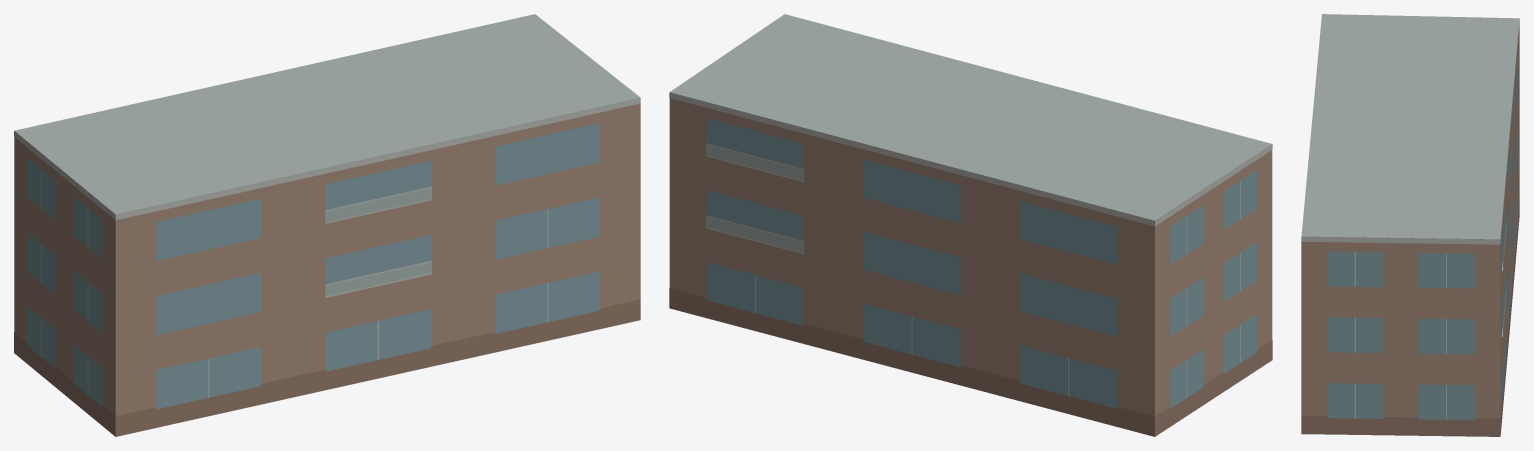
Rendered from survey-upis-32654037.glb.
The picture shows the model from 3 angles, left to right: view 1: azimuth 30°, elevation 25°; view 2: azimuth 150°, elevation 25°; view 3: azimuth 270°, elevation 25°; orthographic projection. The views are drawn at different scales.
Parts seen in each view (by area): view 1: survey-upis-32654037.tmp; view 2: survey-upis-32654037.tmp; view 3: survey-upis-32654037.tmp.
Boxes of the visible parts, box(x1,y1,x2,y2) form: survey-upis-32654037.tmp: box(14, 14, 640, 436); survey-upis-32654037.tmp: box(669, 14, 1272, 436); survey-upis-32654037.tmp: box(1301, 14, 1519, 436).
Bounding box in the file's own units: 22.4 × 9.15 × 9.17.
